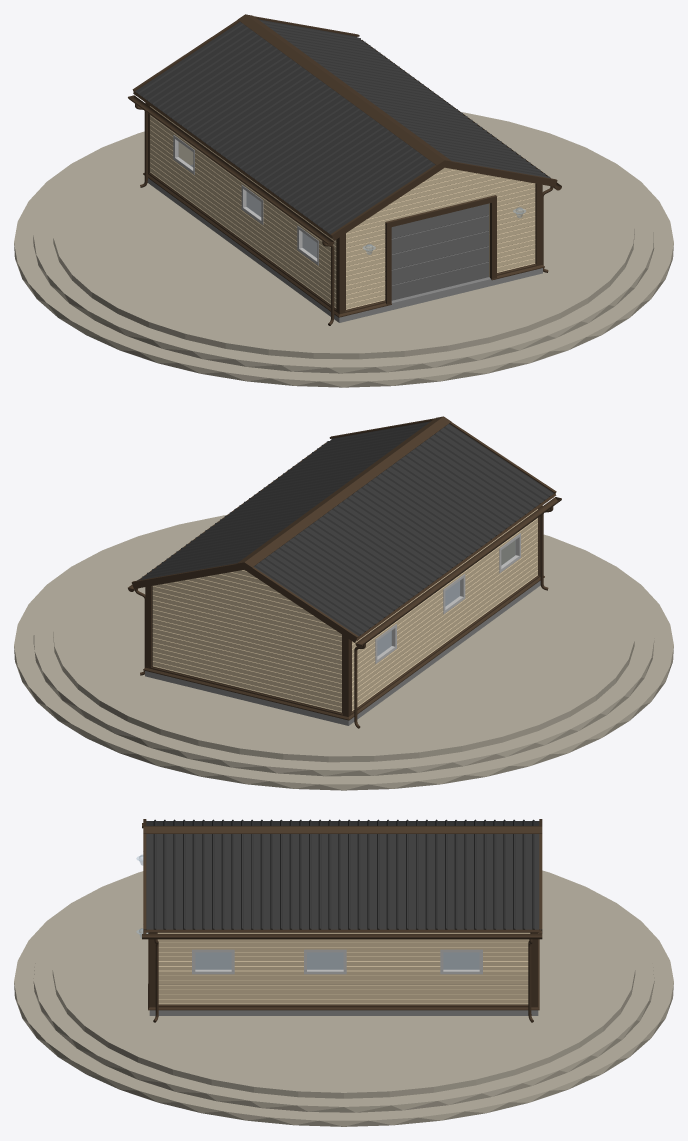
The model's file is garage_6x10.glb.
The picture shows the model from 3 angles, top to bottom: view 1: azimuth 30°, elevation 25°; view 2: azimuth 150°, elevation 25°; view 3: azimuth 270°, elevation 25°; orthographic projection.
Visible parts, largest first — view 1: ground, roof, walls, trim, gate, foundation, windows, glass; view 2: ground, roof, walls, trim, foundation, windows, glass; view 3: ground, roof, walls, trim, foundation, glass, windows.
Part boxes in pixels (bbox=[...]): ground: bbox=[14, 112, 673, 387]; roof: bbox=[135, 19, 550, 234]; walls: bbox=[150, 106, 535, 309]; trim: bbox=[128, 14, 561, 325]; gate: bbox=[391, 203, 488, 300]; foundation: bbox=[147, 164, 542, 322]; windows: bbox=[173, 135, 318, 265]; glass: bbox=[178, 142, 525, 257]; ground: bbox=[14, 515, 673, 790]; roof: bbox=[137, 421, 553, 636]; walls: bbox=[152, 509, 537, 712]; trim: bbox=[128, 416, 561, 728]; foundation: bbox=[145, 580, 540, 725]; windows: bbox=[375, 533, 520, 663]; glass: bbox=[377, 540, 515, 655]; ground: bbox=[14, 870, 673, 1126]; roof: bbox=[144, 819, 541, 930]; walls: bbox=[157, 932, 530, 1004]; trim: bbox=[142, 819, 542, 1022]; foundation: bbox=[149, 952, 538, 1015]; glass: bbox=[136, 855, 479, 969]; windows: bbox=[192, 949, 482, 974].
Size of the model in its own units: 17 by 4.58 by 17.
